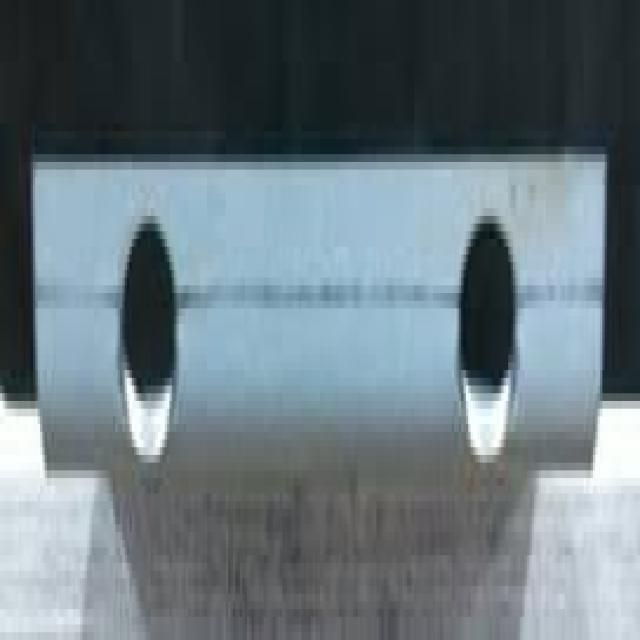holes: (115, 203, 180, 468), (457, 211, 521, 460)
